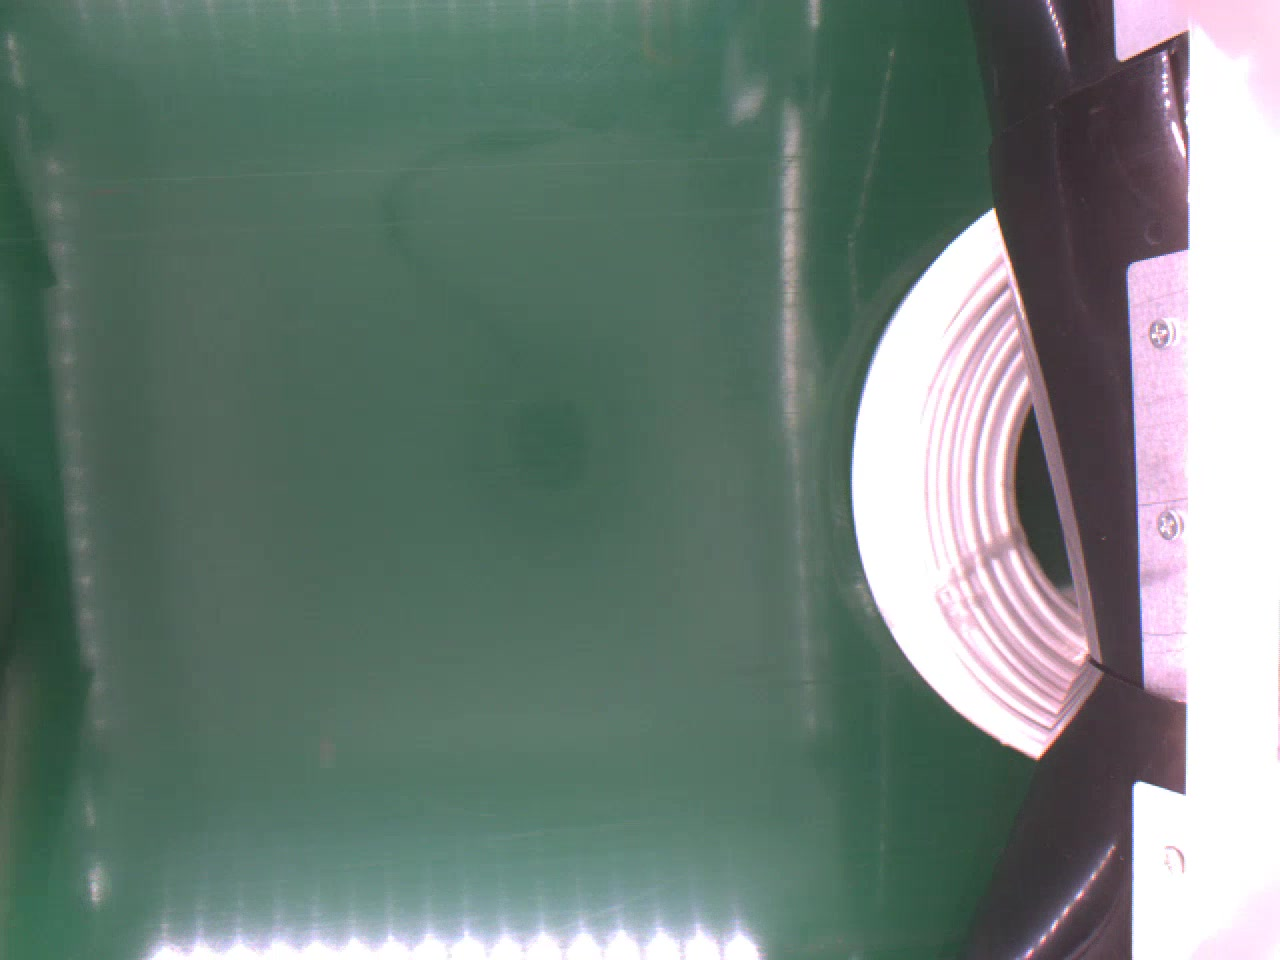white: (843, 194, 1103, 757)
